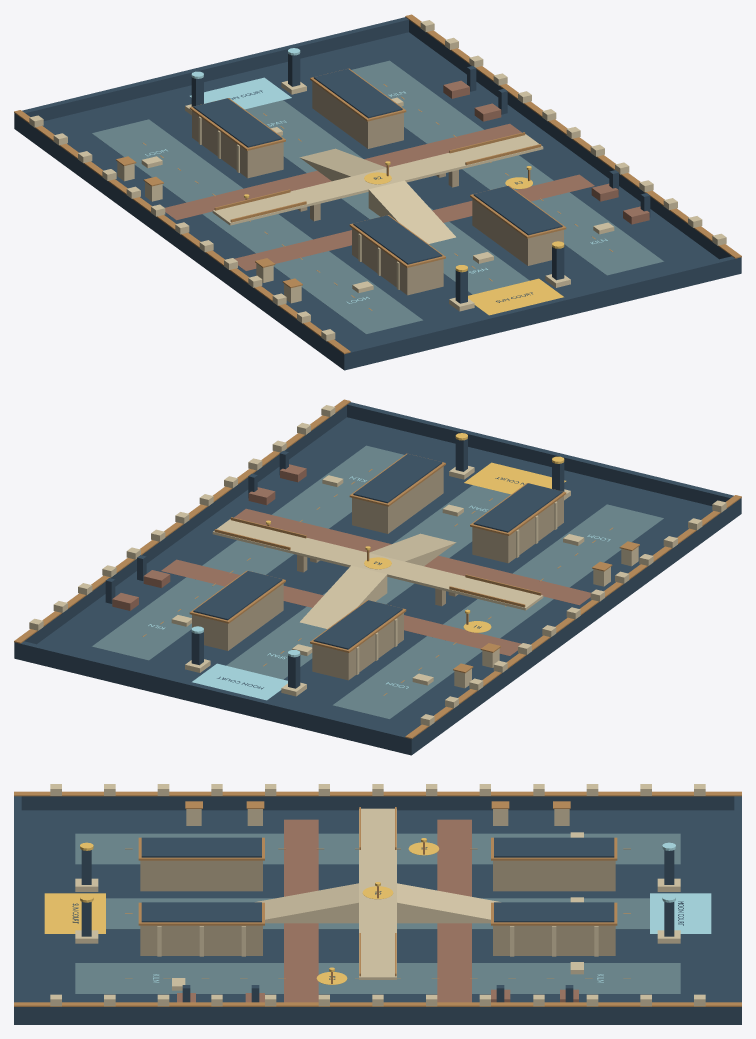
The model's file is studio-relay-foundry.glb.
The picture shows the model from 3 angles, top to bottom: view 1: azimuth 30°, elevation 25°; view 2: azimuth 150°, elevation 25°; view 3: azimuth 270°, elevation 25°; orthographic projection. The views are drawn at different scales.
Visible parts, largest first — view 1: COL_BOX_FOUNDATION, DECOR_ROUTE_LOOM, DECOR_ROUTE_KILN, COL_BOX_BOUNDARY_Z_94, DECOR_ROUTE_SPAN, COL_BOX_BOUNDARY_Z_-94, COL_BOX_CROSSOVER_DECK, COL_BOX_BOUNDARY_X_-65, DECOR_ROTATION_STRIP_-20, COL_BOX_BOUNDARY_X_65, DECOR_ROTATION_STRIP_20, COL_RAMP_SOUTH_ACCESS (+13 smaller); view 2: COL_BOX_FOUNDATION, DECOR_ROUTE_LOOM, DECOR_ROUTE_KILN, COL_BOX_BOUNDARY_Z_-94, DECOR_ROUTE_SPAN, COL_BOX_BOUNDARY_Z_94, COL_BOX_CROSSOVER_DECK, COL_BOX_BOUNDARY_X_-65, DECOR_ROTATION_STRIP_20, COL_BOX_BOUNDARY_X_65, DECOR_ROTATION_STRIP_-20, COL_RAMP_NORTH_ACCESS (+13 smaller); view 3: COL_BOX_FOUNDATION, DECOR_ROUTE_KILN, COL_BOX_BOUNDARY_X_65, COL_BOX_BOUNDARY_X_-65, DECOR_ROUTE_LOOM, COL_BOX_CROSSOVER_DECK, DECOR_ROTATION_STRIP_20, DECOR_ROTATION_STRIP_-20, DECOR_ROUTE_SPAN, COL_BOX_HALL_-20_-46, COL_BOX_HALL_-20_46, COL_BOX_BOUNDARY_CROWN_X_-65 (+17 smaller).
Boxes of the visible parts, x1,y1,x2,y2 form: COL_BOX_FOUNDATION: (14, 32, 741, 370); DECOR_ROUTE_LOOM: (92, 119, 422, 334); DECOR_ROUTE_KILN: (351, 60, 663, 275); COL_BOX_BOUNDARY_Z_94: (348, 256, 735, 365); DECOR_ROUTE_SPAN: (245, 100, 529, 294); COL_BOX_BOUNDARY_Z_-94: (22, 17, 408, 120); COL_BOX_CROSSOVER_DECK: (212, 134, 543, 225); COL_BOX_BOUNDARY_X_-65: (14, 113, 350, 366); DECOR_ROTATION_STRIP_-20: (165, 123, 521, 220); COL_BOX_BOUNDARY_X_65: (409, 20, 741, 270); DECOR_ROTATION_STRIP_20: (234, 174, 594, 270); COL_RAMP_SOUTH_ACCESS: (368, 180, 455, 243); COL_BOX_FOUNDATION: (14, 417, 741, 755); DECOR_ROUTE_LOOM: (333, 504, 663, 719); DECOR_ROUTE_KILN: (92, 445, 404, 660); COL_BOX_BOUNDARY_Z_-94: (20, 641, 407, 750); DECOR_ROUTE_SPAN: (226, 485, 510, 679); COL_BOX_BOUNDARY_Z_94: (347, 402, 733, 505); COL_BOX_CROSSOVER_DECK: (212, 519, 543, 610); COL_BOX_BOUNDARY_X_-65: (405, 498, 741, 751); DECOR_ROTATION_STRIP_20: (234, 508, 590, 605); COL_BOX_BOUNDARY_X_65: (14, 405, 346, 655); DECOR_ROTATION_STRIP_-20: (161, 559, 521, 655); COL_RAMP_NORTH_ACCESS: (300, 565, 387, 628); COL_BOX_FOUNDATION: (14, 810, 741, 1024); DECOR_ROUTE_KILN: (75, 963, 680, 993); COL_BOX_BOUNDARY_X_65: (14, 1007, 741, 1020); COL_BOX_BOUNDARY_X_-65: (21, 796, 734, 810); DECOR_ROUTE_LOOM: (75, 833, 680, 864); COL_BOX_CROSSOVER_DECK: (359, 808, 396, 979); DECOR_ROTATION_STRIP_20: (284, 819, 318, 1002); DECOR_ROTATION_STRIP_-20: (437, 819, 471, 1002); DECOR_ROUTE_SPAN: (106, 898, 649, 929); COL_BOX_HALL_-20_-46: (493, 860, 615, 891); COL_BOX_HALL_-20_46: (140, 860, 262, 891); COL_BOX_BOUNDARY_CROWN_X_-65: (14, 791, 741, 796).
Bounding box in the file's own units: 133 × 13.4 × 190.
